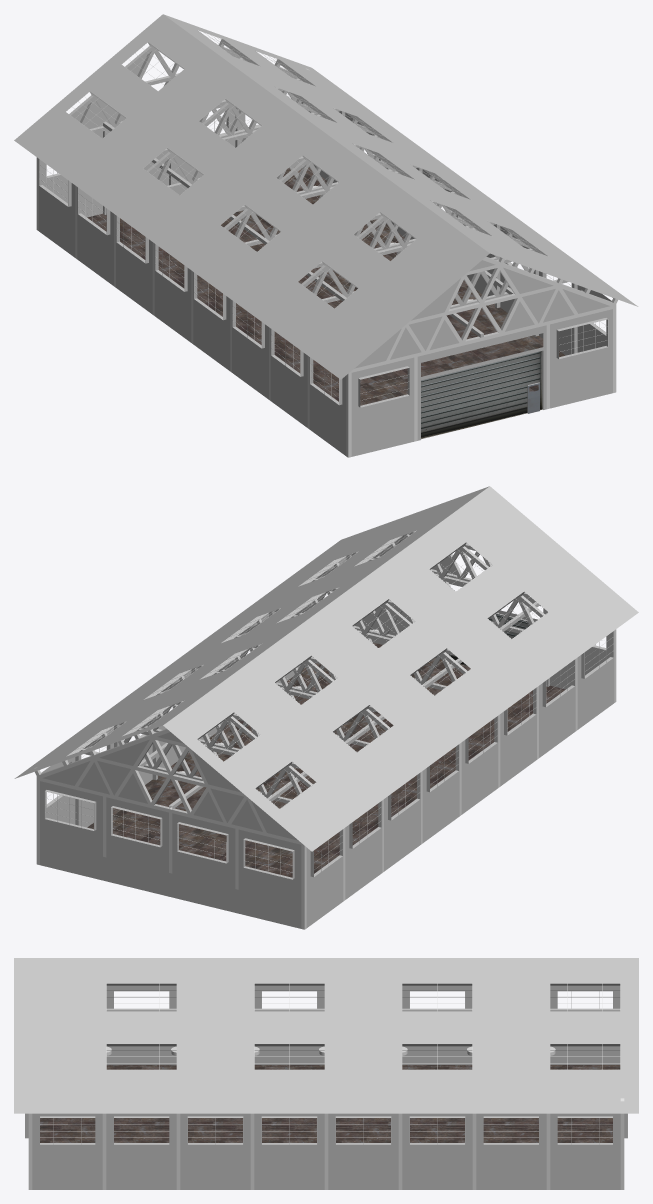
File: Помещение.fbx
3 views of the same model, one above another, from view 1: azimuth 30°, elevation 25°; view 2: azimuth 150°, elevation 25°; view 3: azimuth 270°, elevation 25° (orthographic). The views are drawn at different scales.
Visible parts, largest first — view 1: Material2.005, Material2.001, Material2.004, Material2, Material2.006, Material2.003, Material2.002; view 2: Material2.005, Material2.001, Material2, Material2.006, Material2.004, Material2.003, Material2.002; view 3: Material2.005, Material2.004, Material2.001, Material2, Material2.002, Material2.003, Material2.007.
Part boxes in pixels (x1,y1,x2,y2): Material2.005: (14,14,638,456); Material2.001: (33,28,618,363); Material2.004: (38,111,611,432); Material2: (87,167,565,405); Material2.006: (42,91,612,432); Material2.003: (36,68,617,457); Material2.002: (66,30,608,407); Material2.005: (14,486,638,928); Material2.001: (36,500,619,835); Material2: (87,642,565,877); Material2.006: (40,555,610,904); Material2.004: (41,556,614,904); Material2.003: (34,597,616,929); Material2.002: (66,530,613,847); Material2.005: (14,958,638,1189); Material2.004: (32,985,620,1167); Material2.001: (28,980,624,1101); Material2: (40,1065,620,1142); Material2.002: (68,983,627,1189); Material2.003: (28,991,624,1189); Material2.007: (106,1046,555,1055).
Size of the model in its own units: 21.88 by 12.44 by 41.58.
